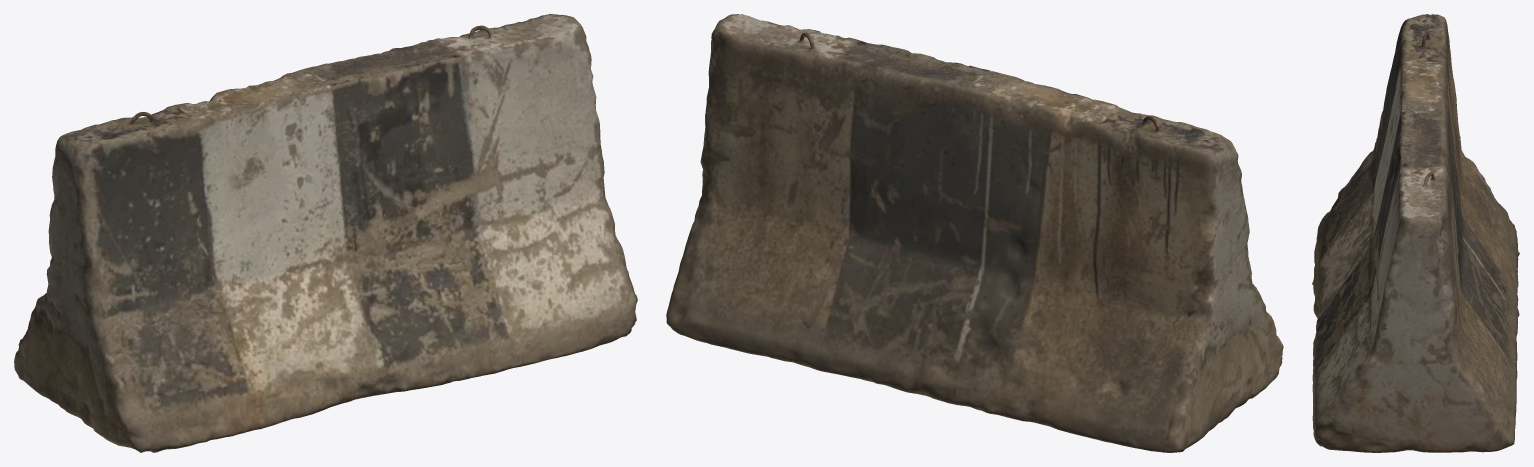
File: concrete_road_barrier.glb
3 views of the same model, side by side, from view 1: azimuth 30°, elevation 25°; view 2: azimuth 150°, elevation 25°; view 3: azimuth 270°, elevation 25° (orthographic). The views are drawn at different scales.
Parts seen in each view (by area): view 1: concrete_road_barrier; view 2: concrete_road_barrier; view 3: concrete_road_barrier.
Part boxes in pixels (bbox=[...]): concrete_road_barrier: bbox=[14, 14, 637, 452]; concrete_road_barrier: bbox=[666, 14, 1283, 452]; concrete_road_barrier: bbox=[1312, 14, 1519, 452].
Size of the model in its own units: 1.55 by 0.8308 by 0.6387.
Materials: 1 (1 with a texture image).
